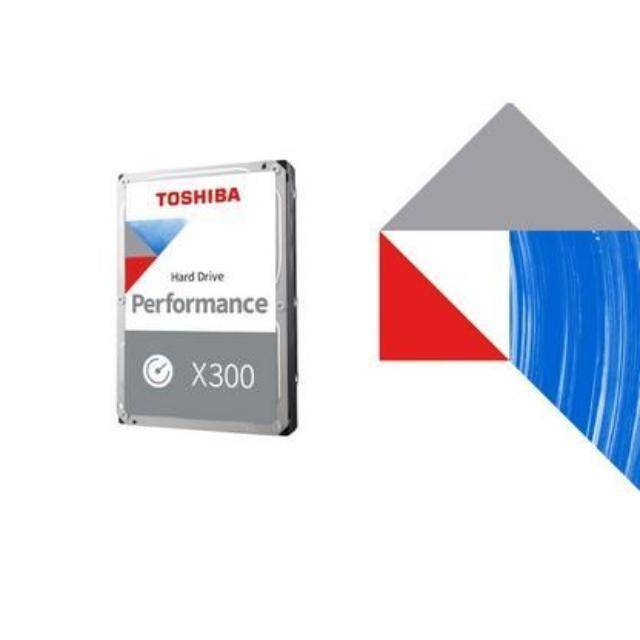DISK: (113, 160, 302, 431)
